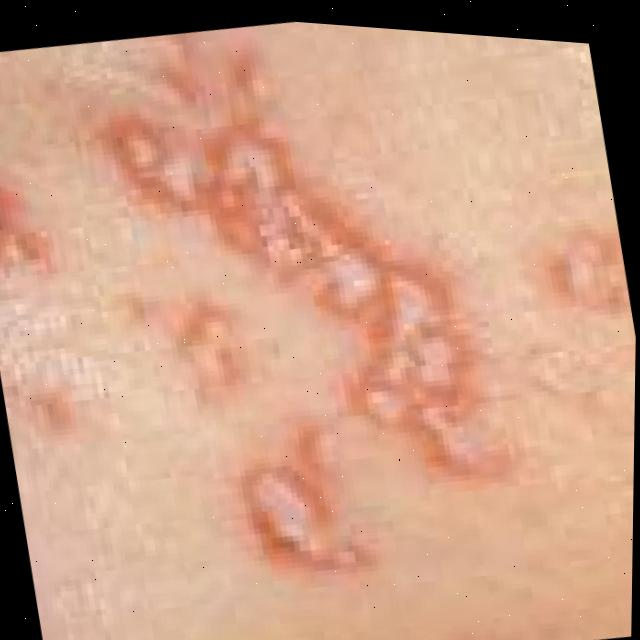Shingles: (86, 7, 528, 640)
